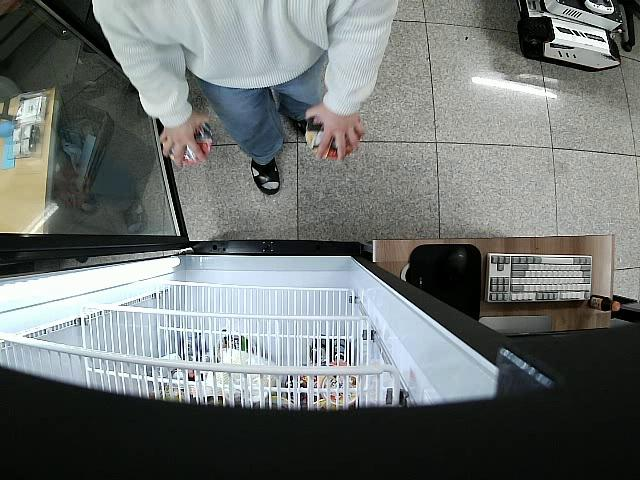00_hand: (305, 115, 360, 161), (163, 125, 214, 163)
07_buldak_L: (307, 119, 355, 161), (170, 126, 215, 163)
